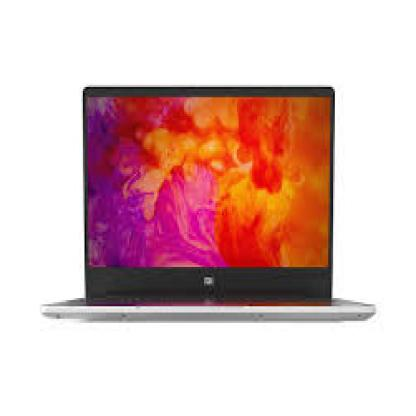NOTEBOOK: (27, 68, 402, 350)
